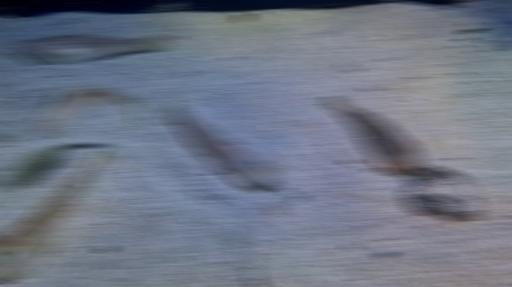Fish: (0, 148, 105, 278), (166, 98, 281, 187), (326, 95, 423, 175), (35, 85, 142, 137), (11, 34, 166, 64)
